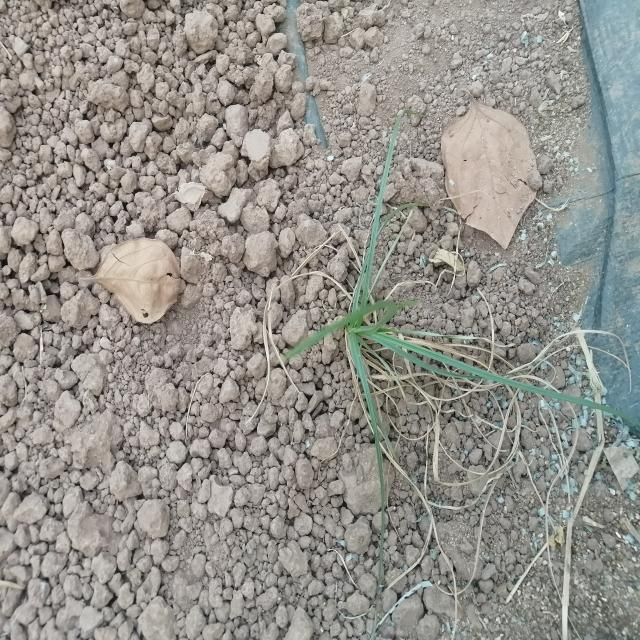sedge: (304, 128, 539, 555)
